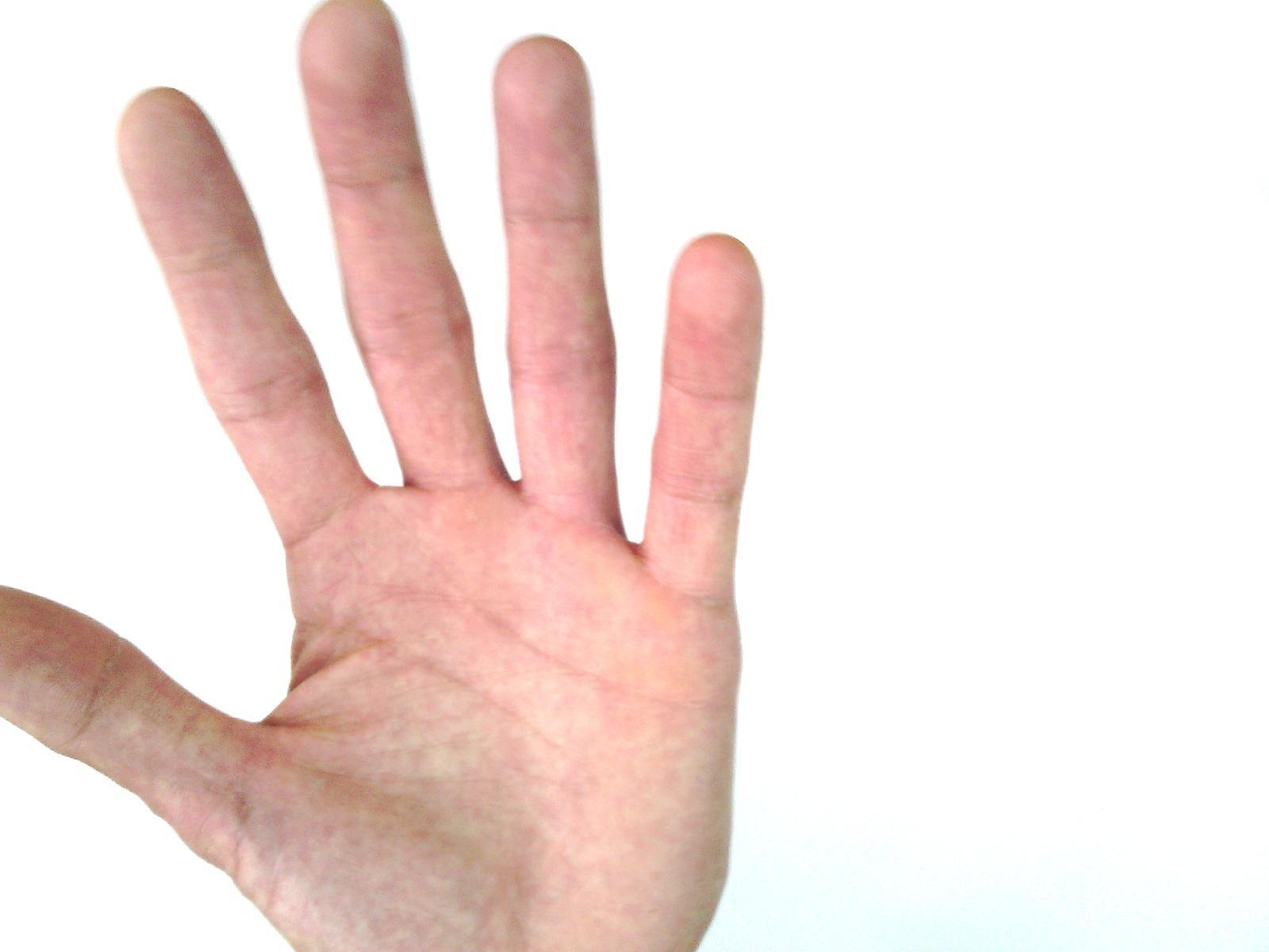open_palm: (4, 4, 769, 950)
